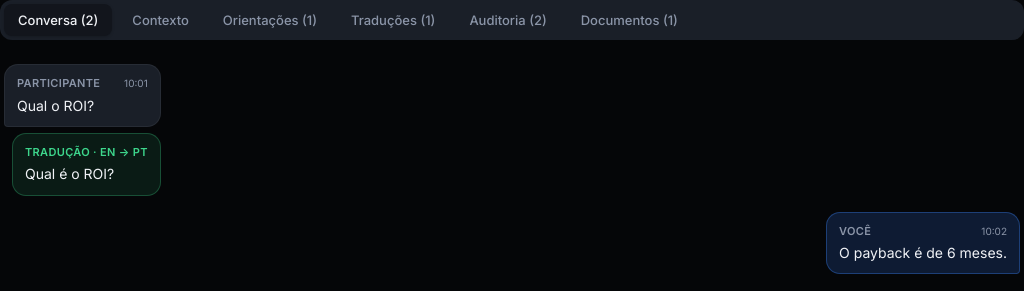
it: SessionDetailTabs › switches to translations tab
The width and height of the screenshot is (1024, 291).
Click the tab with test id "session-tab-translations" at (393, 20), box [337,4,449,36]
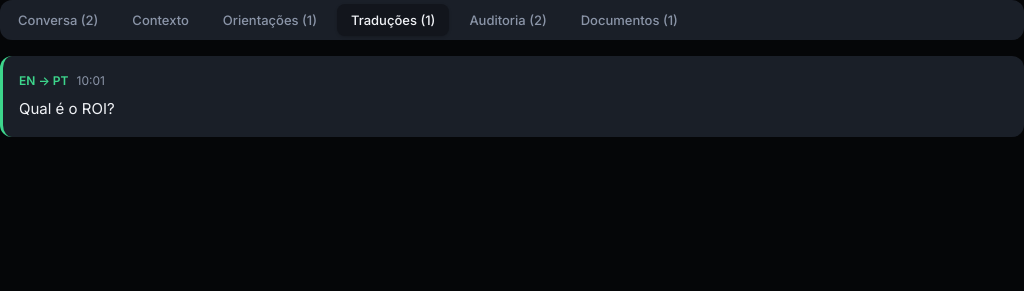
Expected: the text "Qual é o ROI?" is shown, [19,99,115,118]
Now the list with test id "history-translations-tab" is shown, box [0,56,1023,136]
